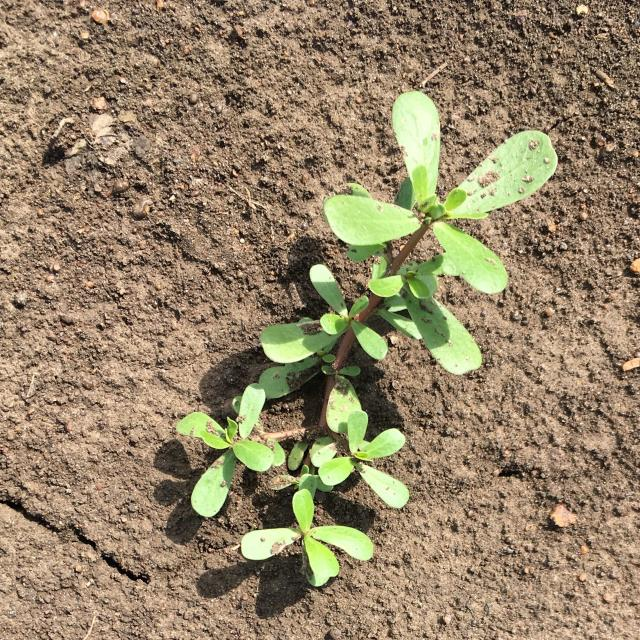Purslane: (176, 91, 558, 587)
